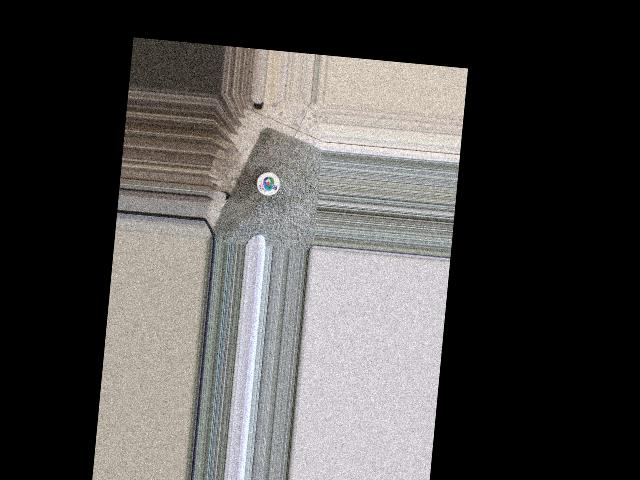cotage: (255, 170, 281, 195)
